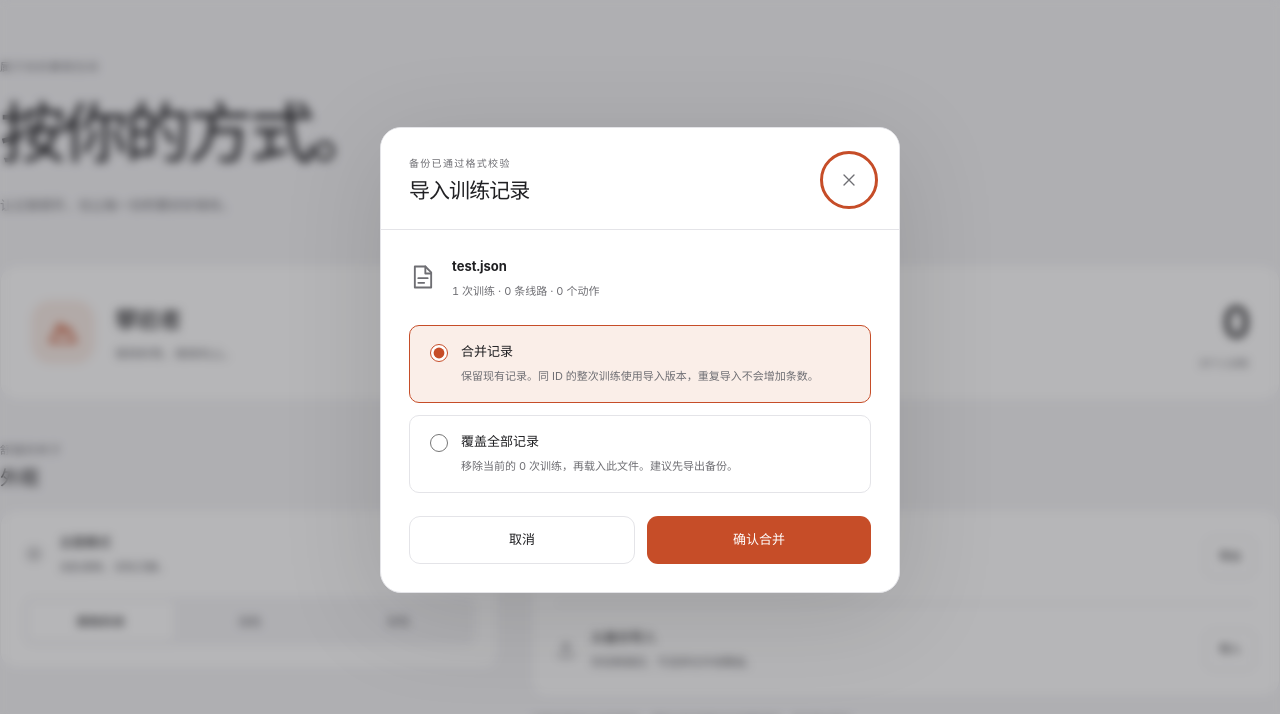
Test: 导入交互 › 点击覆盖选项后弹窗保持打开，明确确认前禁用执行
This screenshot has width=1280, height=714.
Earlier steps of the test are not shown.
Expected: the dialog "导入训练记录" is shown, [380,127,900,593]
Click the radio button labelled "覆盖全部记录 移除当前的 0 次训练，再载入此文件。建议先导出备份。".
click(439, 443)  # box [430,434,448,452]
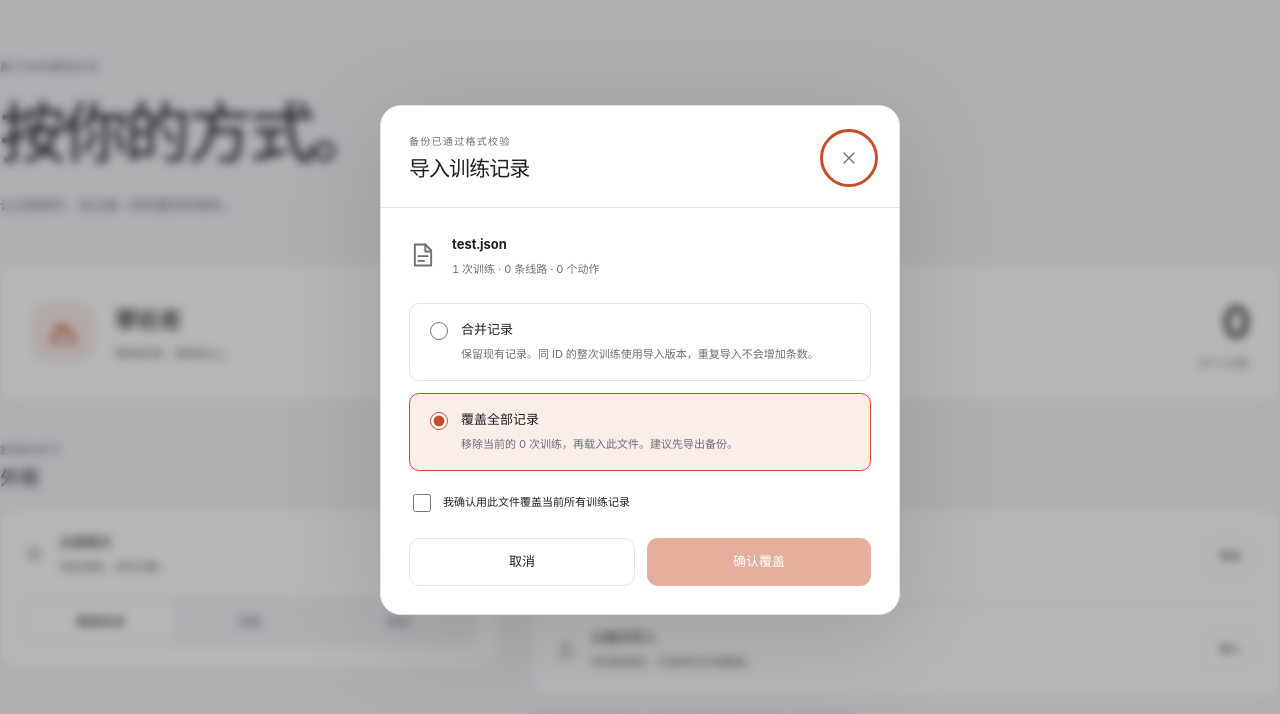
Expected: the dialog "导入训练记录" is shown, [380,105,900,615]
Result: the button "确认覆盖" is disabled at [647,538,871,586]
Click the checkbox labelled "我确认用此文件覆盖当前所有训练记录".
click(422, 503)  # box [413,494,431,512]
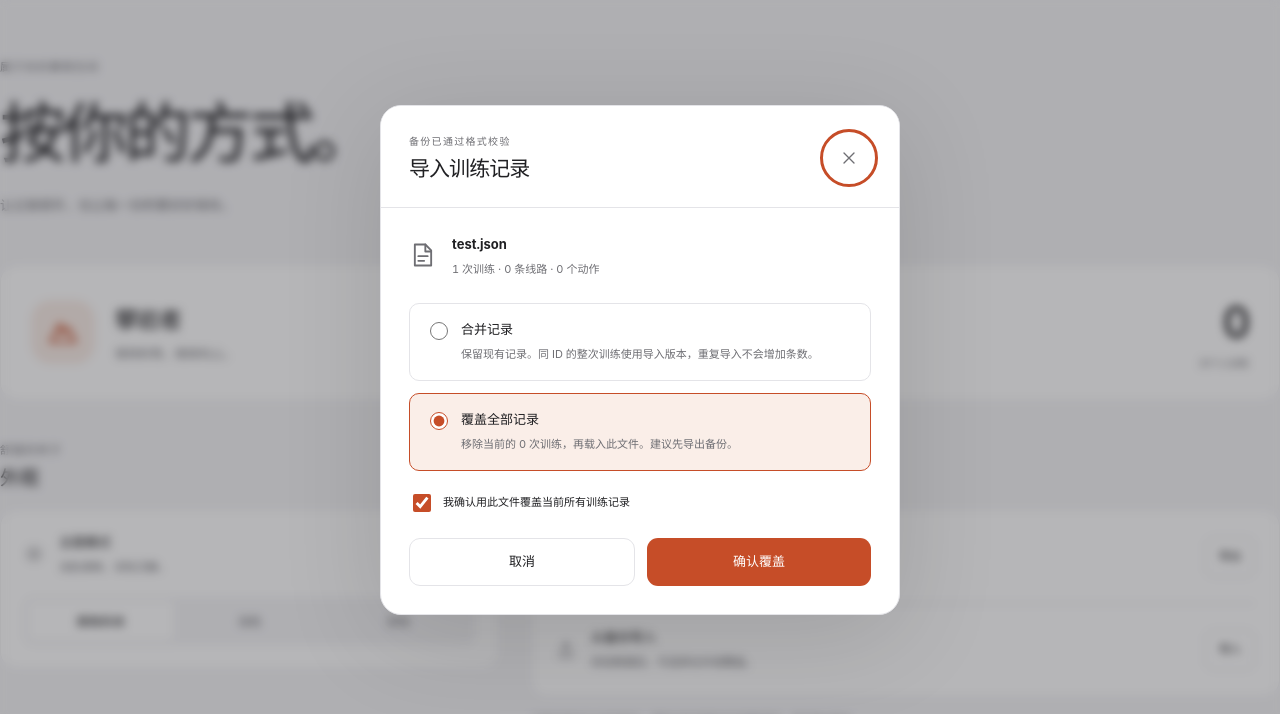
Click the button "确认覆盖".
click(759, 562)  # box [647,538,871,586]
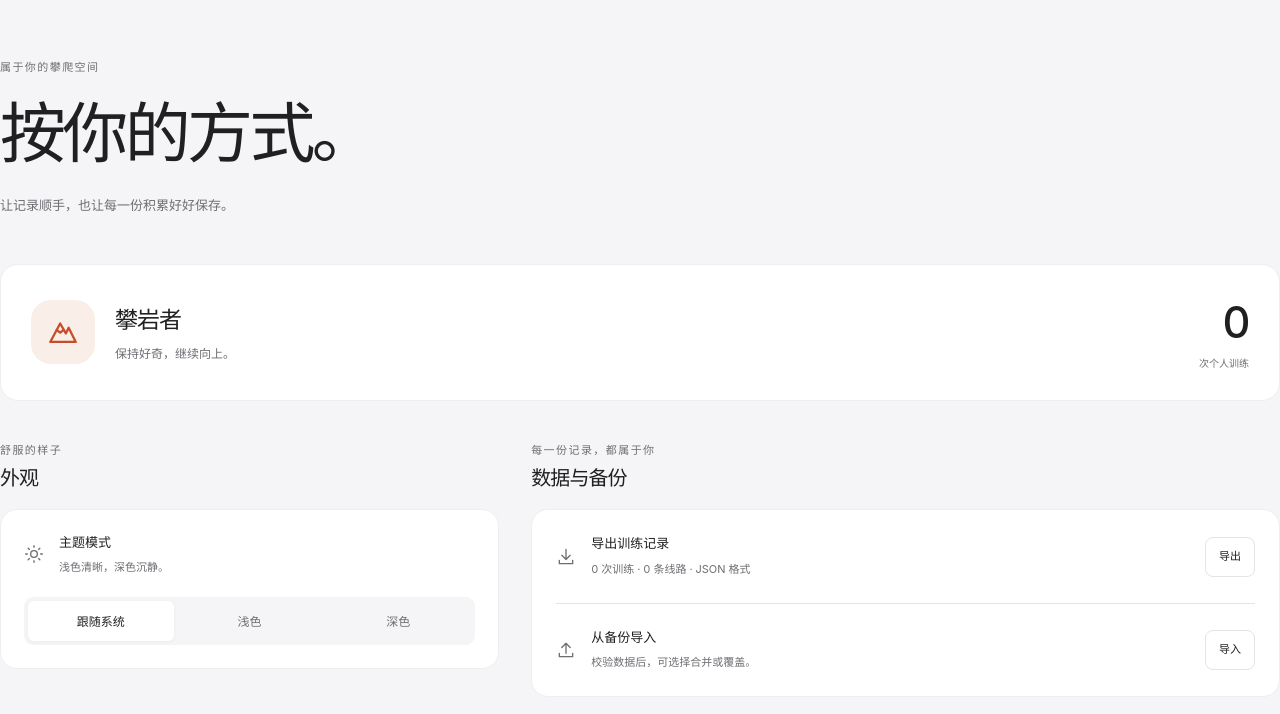
Result: the dialog is gone
